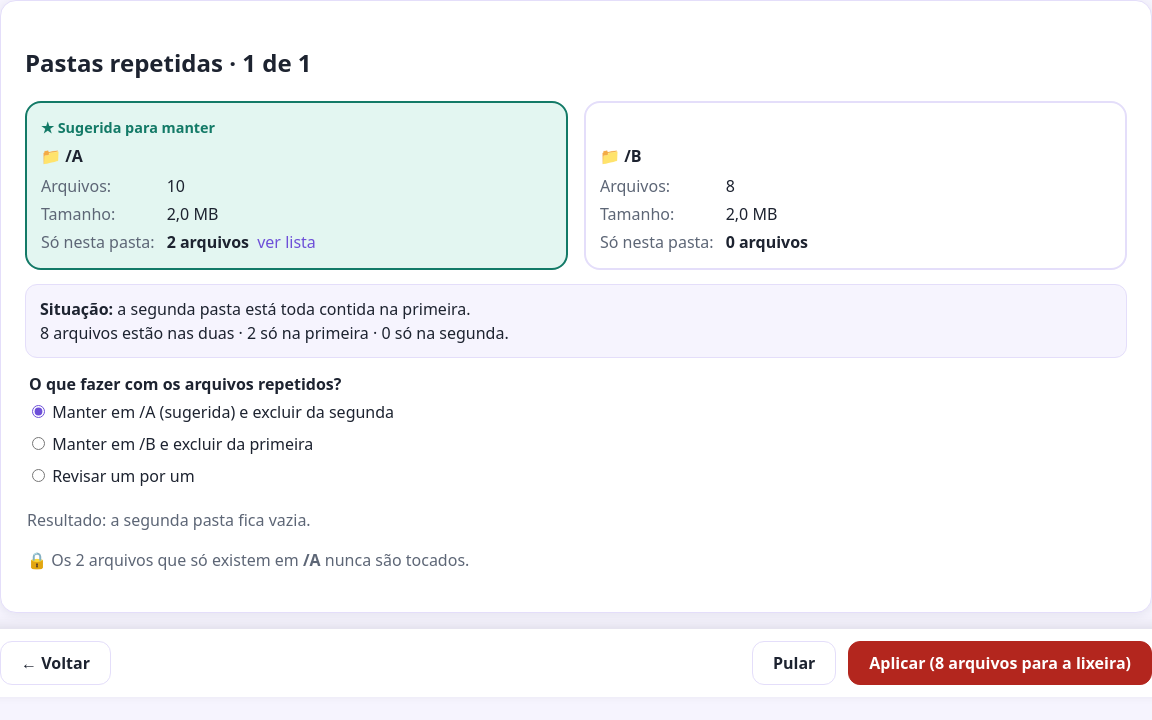
it: duas pastas: cartões, quadro-resumo, lista dos únicos e prévia
Expected: the heading "Pastas repetidas · 1 de 1" is shown, [25,46,312,79]
Expected: the text "★ Sugerida para manter" is shown, [41,118,215,137]
Click the button "ver lista". click: click(286, 242)
box: [253,231,320,253]
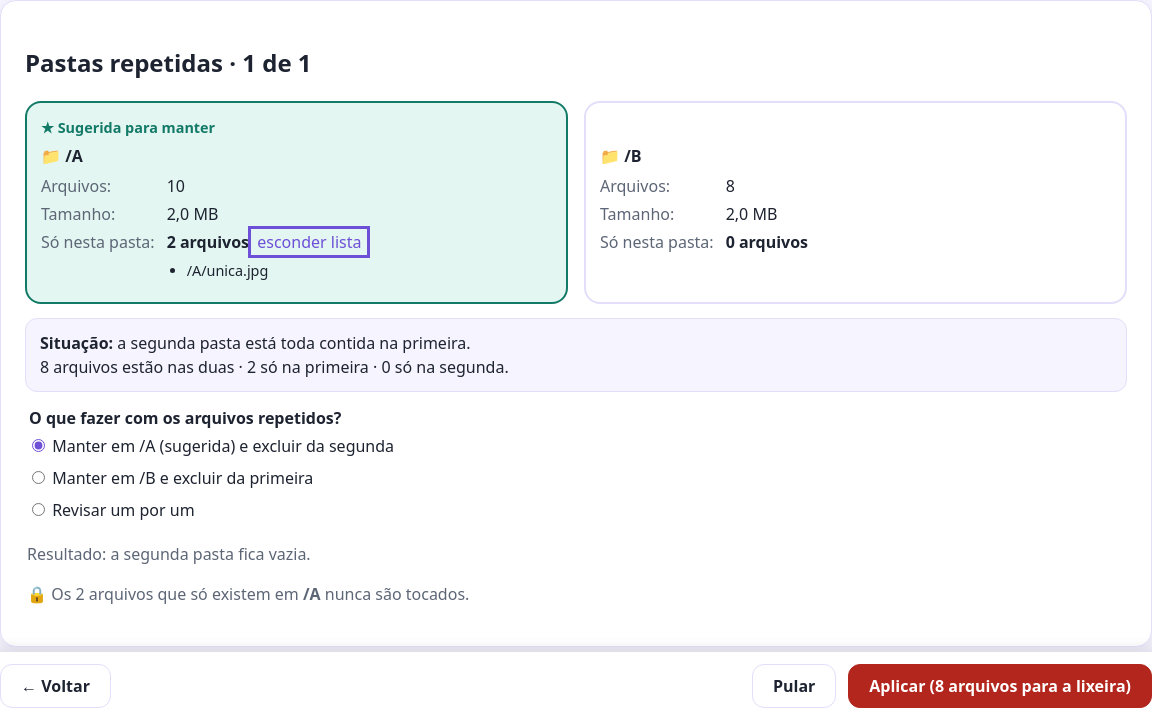
Now the list item "/A/unica.jpg" is shown, box [187,261,268,280]
